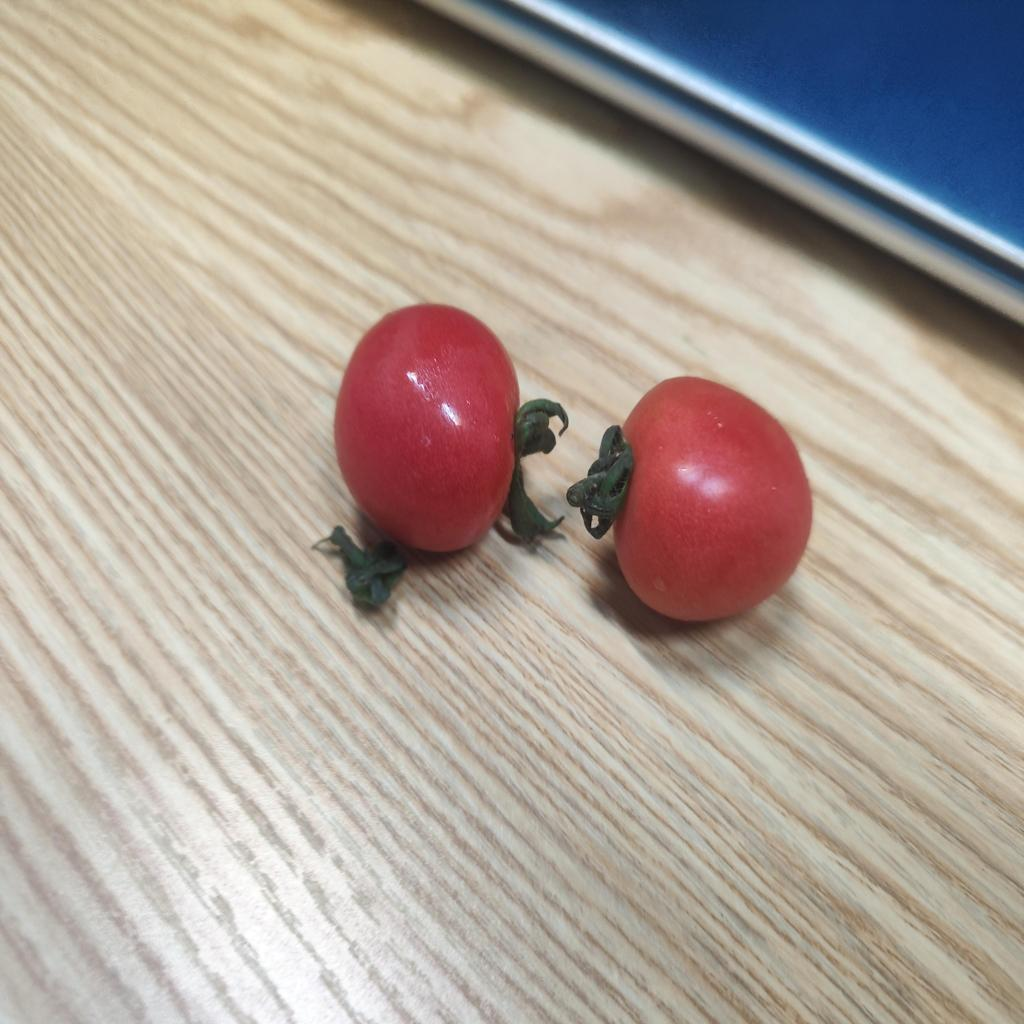tomato: (330, 303, 539, 563), (594, 379, 815, 623)
